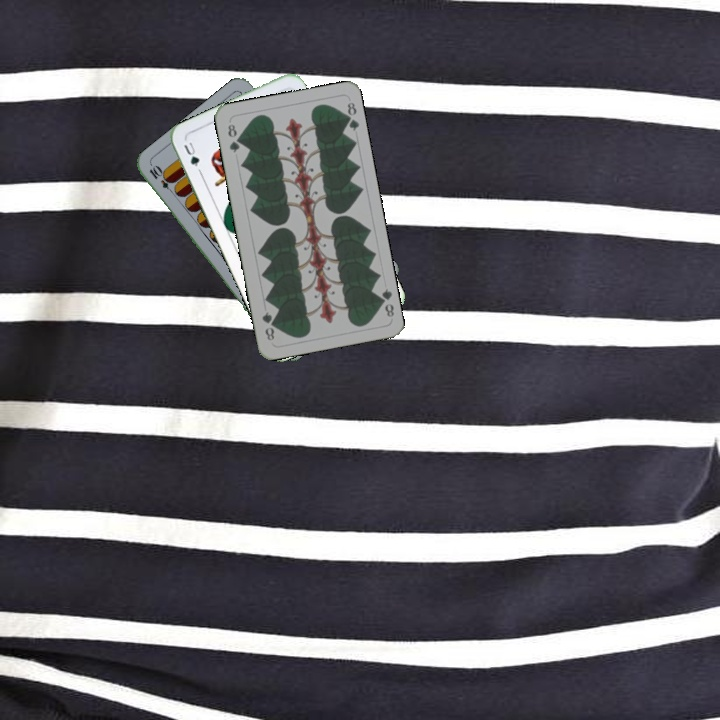E10: (145, 162, 178, 197)
G8: (374, 284, 397, 319), (224, 120, 242, 155)
GU: (179, 138, 202, 169)
